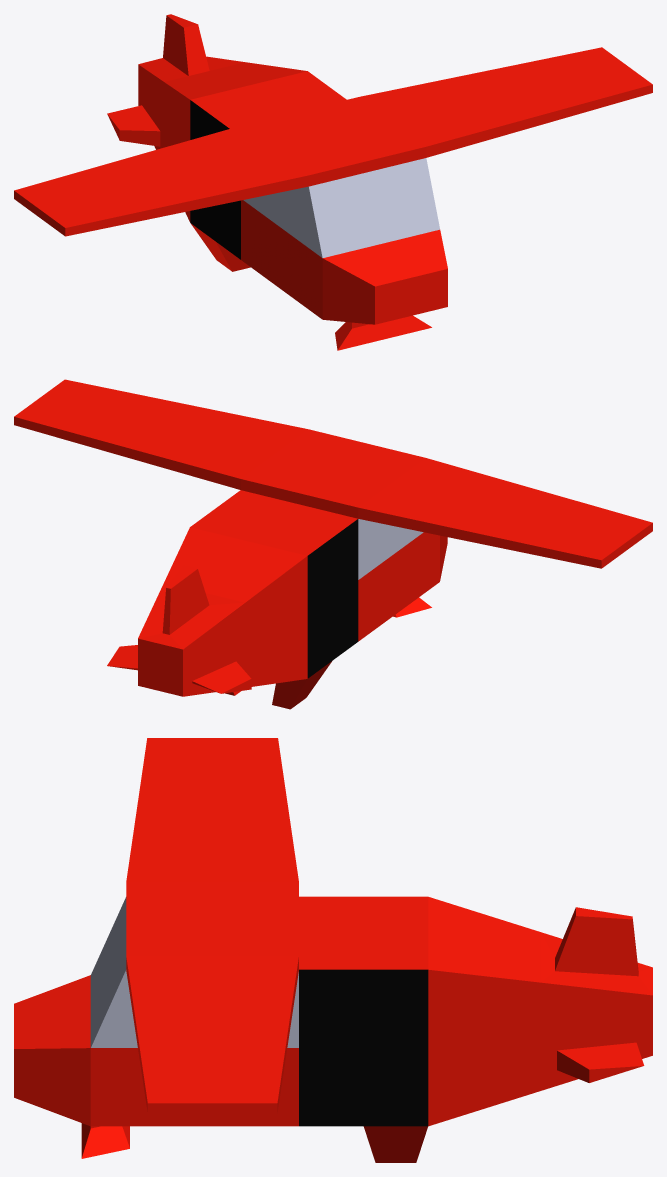
Rendered from airplane.glb.
The picture shows the model from 3 angles, top to bottom: view 1: azimuth 30°, elevation 25°; view 2: azimuth 150°, elevation 25°; view 3: azimuth 270°, elevation 25°; orthographic projection. The views are drawn at different scales.
Parts seen in each view (by area): view 1: Airplane; view 2: Airplane; view 3: Airplane.
Part boxes in pixels (<box>): Airplane: <box>14,14,652,350</box>; Airplane: <box>14,379,652,709</box>; Airplane: <box>14,738,652,1162</box>.
Bounding box in the file's own units: 10 × 2.91 × 7.39.
